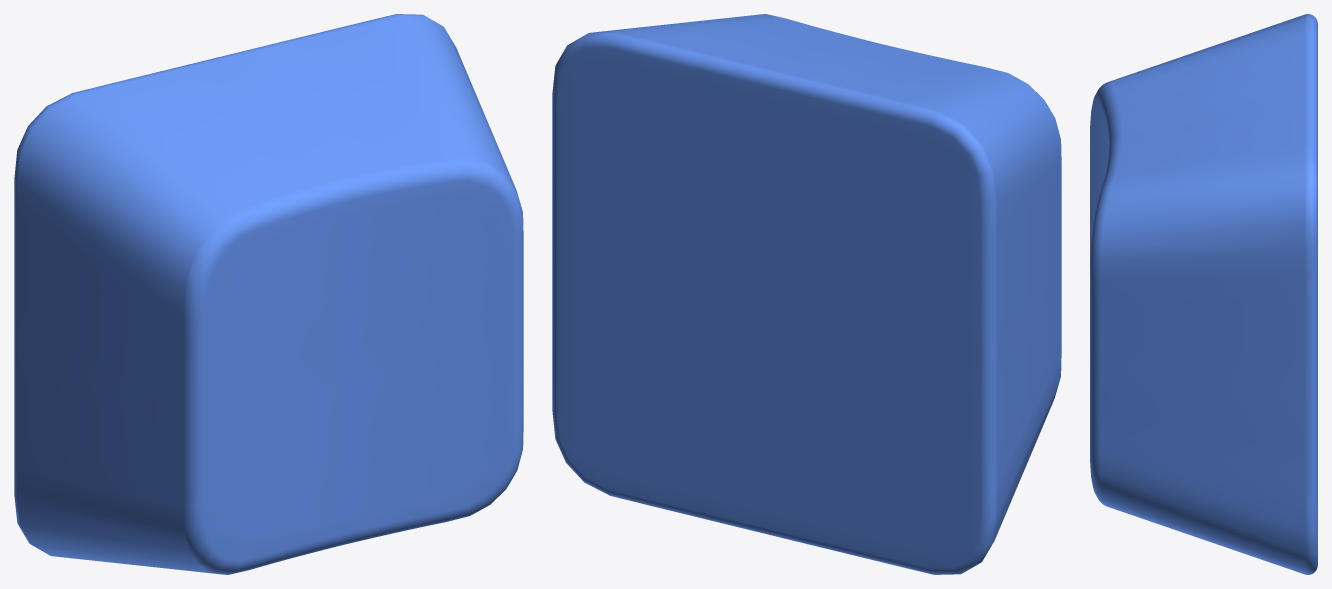
The model's file is decoration.glb.
3 renders of one model, left to right at view 1: azimuth 30°, elevation 25°; view 2: azimuth 150°, elevation 25°; view 3: azimuth 270°, elevation 25°, orthographic. The views are drawn at different scales.
Parts seen in each view (by area): view 1: decoration; view 2: decoration; view 3: decoration.
Boxes of the visible parts, x1,y1,x2,y2 form: decoration: [14, 14, 523, 574]; decoration: [552, 14, 1061, 574]; decoration: [1090, 14, 1317, 574].
Size of the model in its own units: 1.28 by 1.28 by 0.6436.
